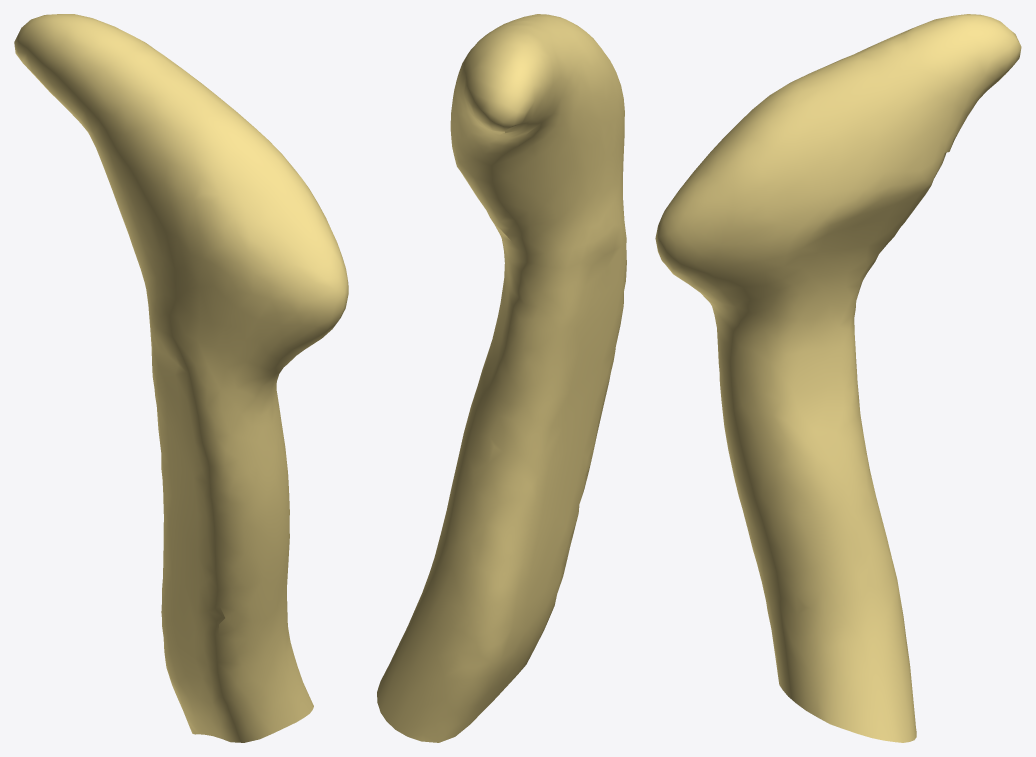
Rendered from fma73391_mm2993m.glb.
3 renders of one model, left to right at view 1: azimuth 30°, elevation 25°; view 2: azimuth 150°, elevation 25°; view 3: azimuth 270°, elevation 25°, orthographic. The views are drawn at different scales.
Visible parts, largest first — view 1: FMA73391_MM2993M; view 2: FMA73391_MM2993M; view 3: FMA73391_MM2993M.
Part boxes in pixels (bbox=[...]): FMA73391_MM2993M: bbox=[14, 14, 348, 742]; FMA73391_MM2993M: bbox=[377, 14, 626, 742]; FMA73391_MM2993M: bbox=[655, 14, 1021, 742].
Bounding box in the file's own units: 0.00498 × 0.0163 × 0.00813.
